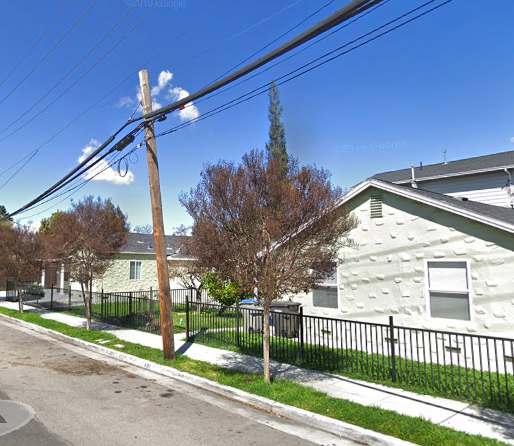tree: (169, 147, 360, 384)
